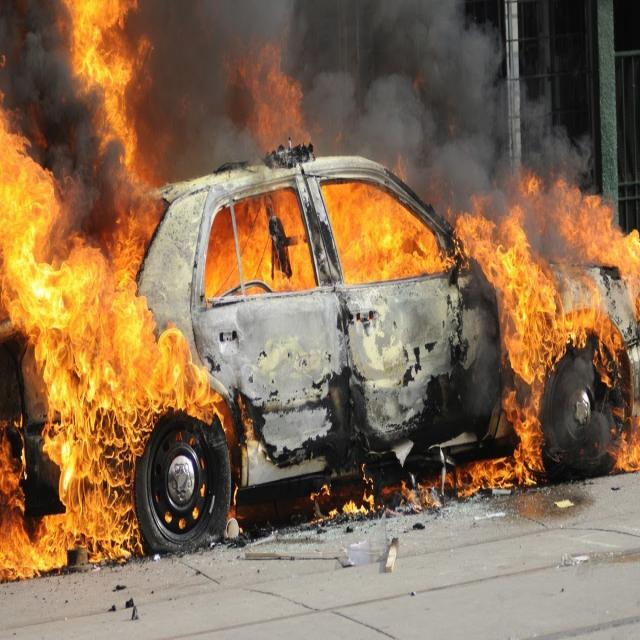fire: (58, 246, 144, 558), (471, 222, 552, 376), (563, 190, 640, 348), (2, 130, 52, 330), (334, 182, 436, 280), (147, 310, 211, 432), (237, 196, 311, 295), (1, 446, 54, 582), (78, 4, 140, 85), (507, 395, 542, 496), (450, 464, 499, 496)
